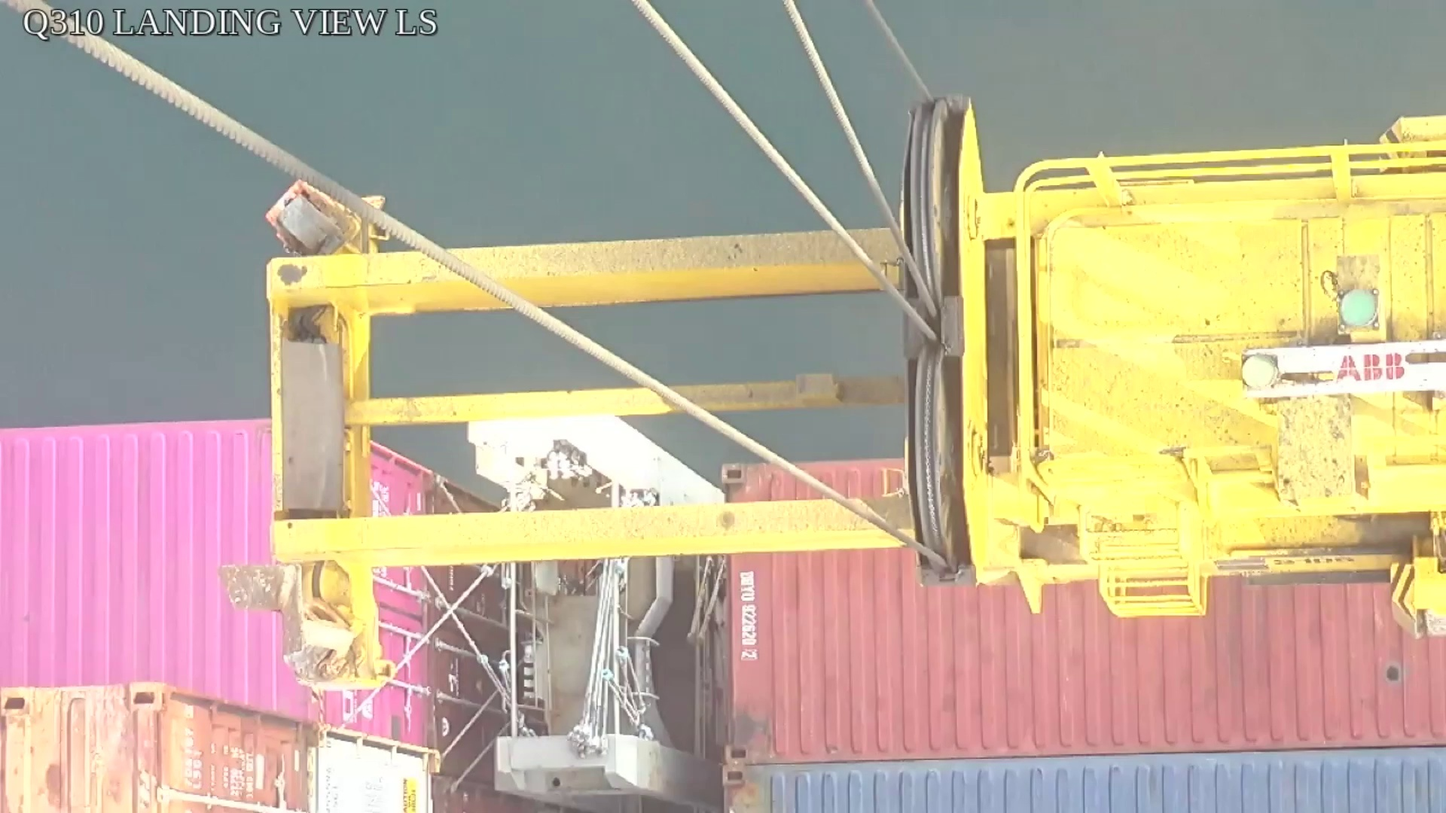aa: (903, 96, 990, 585)
